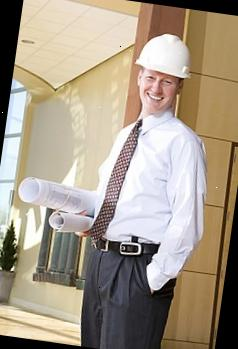helmet: (132, 28, 197, 82)
no_wear: (91, 123, 202, 259)
